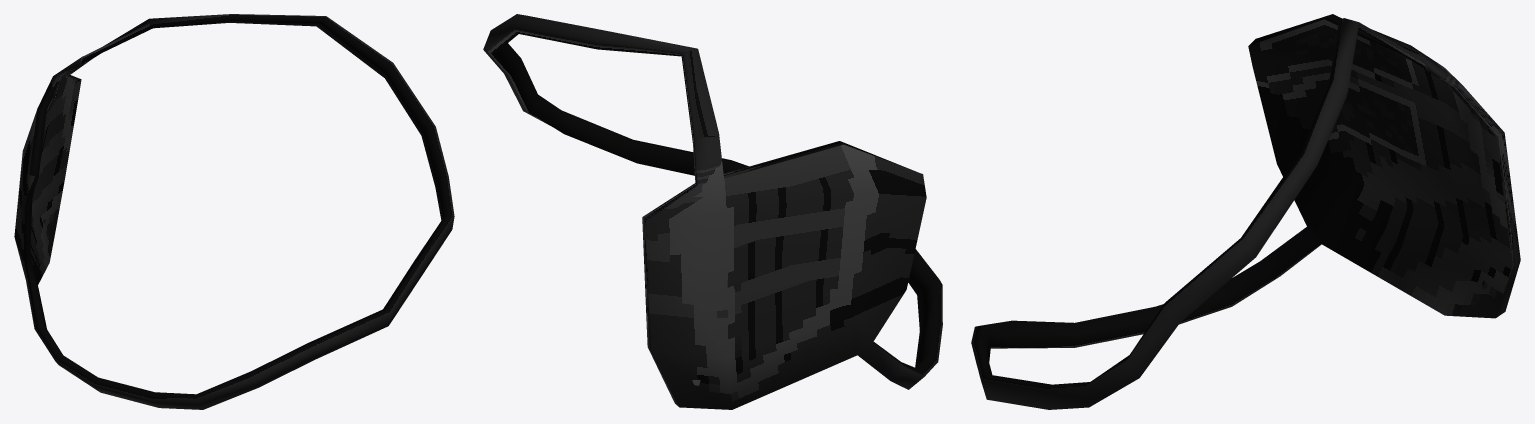
The model's file is Bandage.glb.
The picture shows the model from 3 angles, left to right: view 1: azimuth 30°, elevation 25°; view 2: azimuth 150°, elevation 25°; view 3: azimuth 270°, elevation 25°; orthographic projection. The views are drawn at different scales.
Parts seen in each view (by area): view 1: bandage; view 2: bandage; view 3: bandage.
Part boxes in pixels (x1=…): bandage: x1=14, y1=14, x2=454, y2=409; bandage: x1=483, y1=14, x2=942, y2=409; bandage: x1=971, y1=14, x2=1520, y2=409.
Size of the model in its own units: 1.36 by 1 by 1.28.
1 material, 1 textured.
